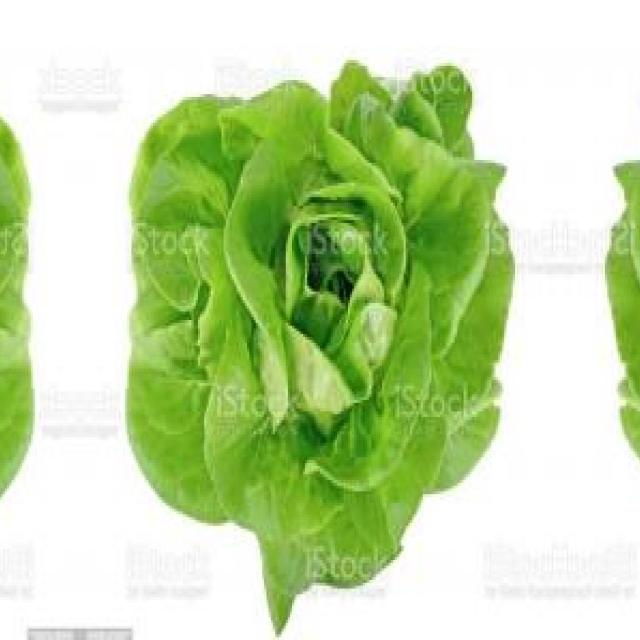healthy: (123, 52, 521, 614), (599, 52, 640, 614), (0, 52, 37, 614)
